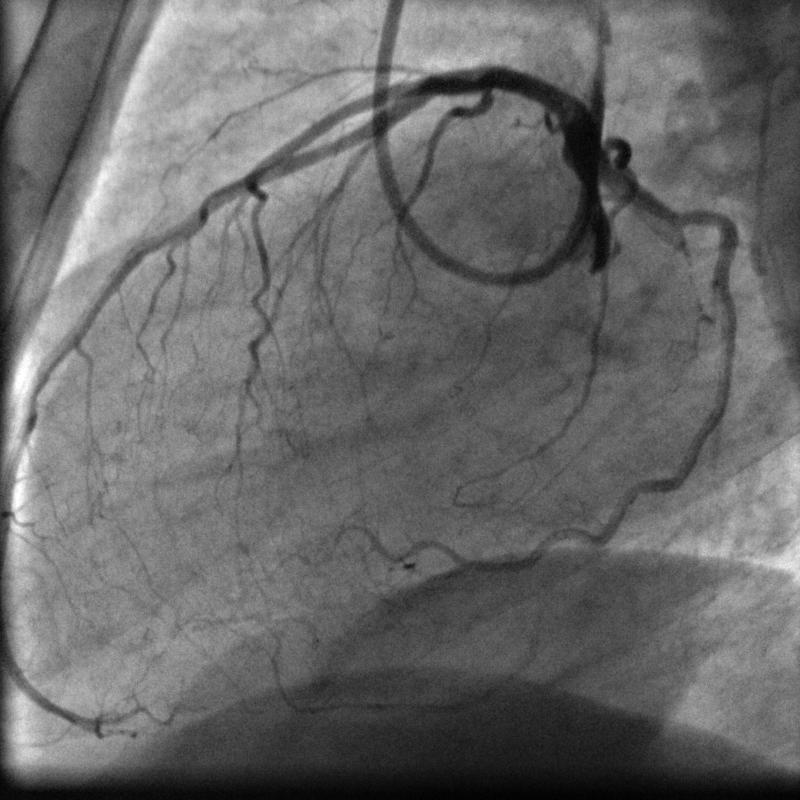Stenosis: (463, 58, 499, 124)
